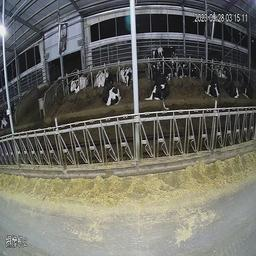cow: (147, 64, 173, 108), (102, 73, 125, 110), (151, 40, 177, 71), (206, 67, 224, 105), (69, 66, 91, 97), (181, 61, 201, 87), (225, 70, 241, 102), (240, 65, 253, 102), (119, 58, 133, 85), (96, 65, 110, 83)
